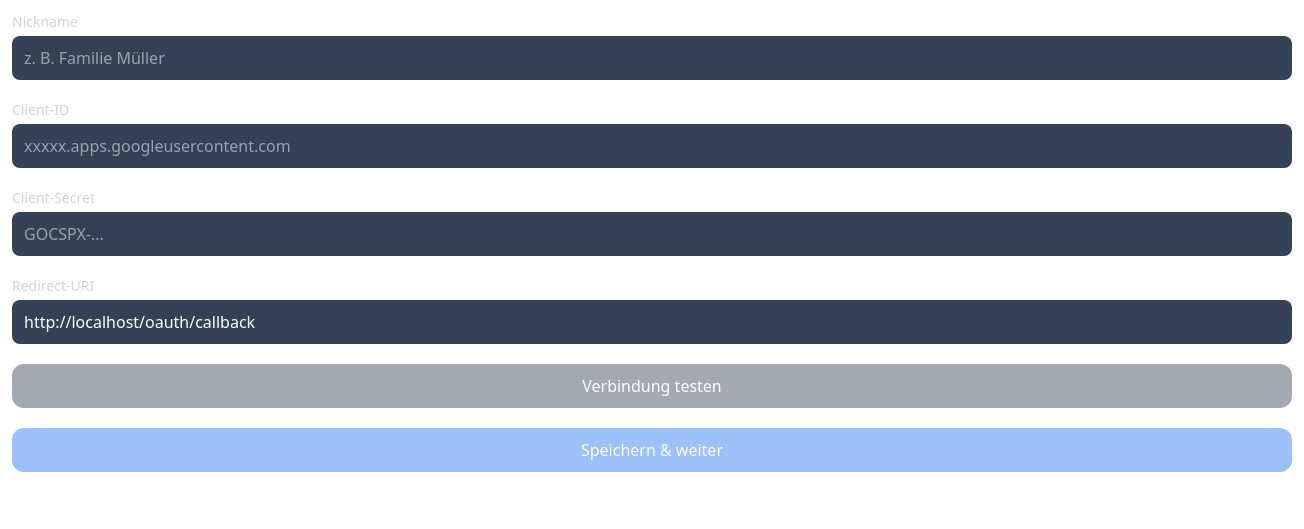
Test: CredentialsStep › "Verbindung testen" shows red error message when isValid=false
Type "Familie" into the field labelled "Nickname". click: coordinates (652, 58)
box: [12,36,1292,80]
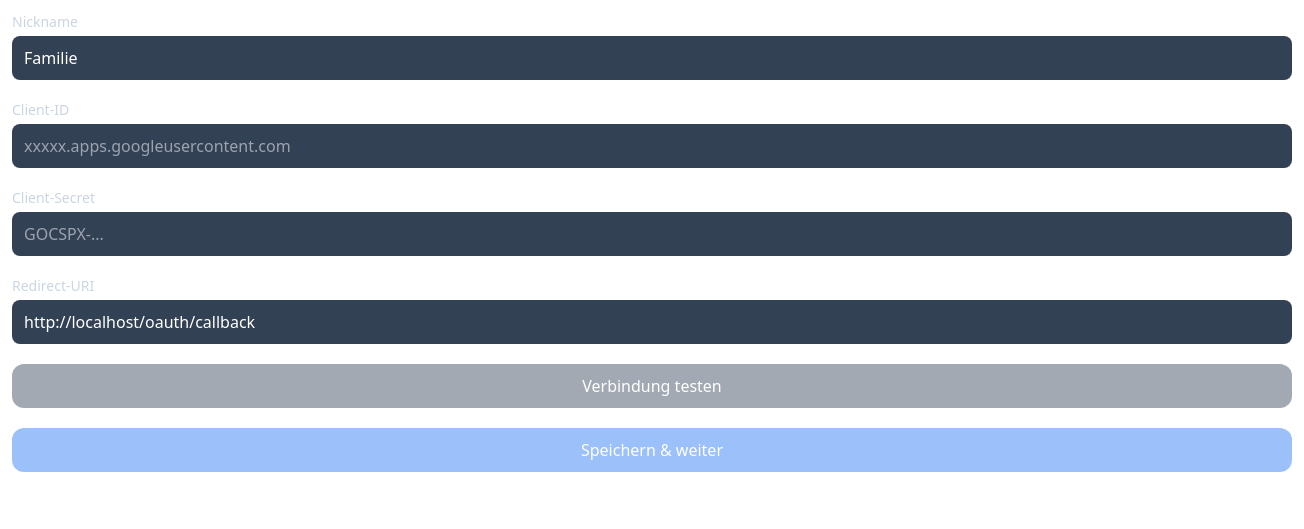
Type "client-id-123" into the field labelled "Client-ID". click: coordinates (652, 146)
box: [12,124,1292,168]
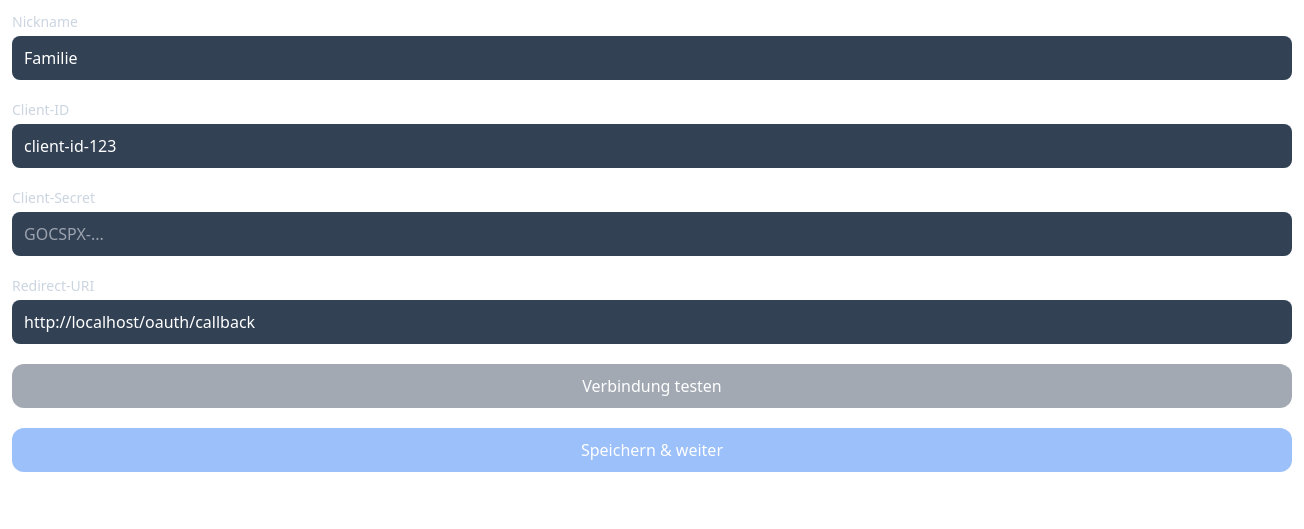
Type "secret-abc" into the field labelled "Client-Secret". click: coordinates (652, 234)
box: [12,212,1292,256]
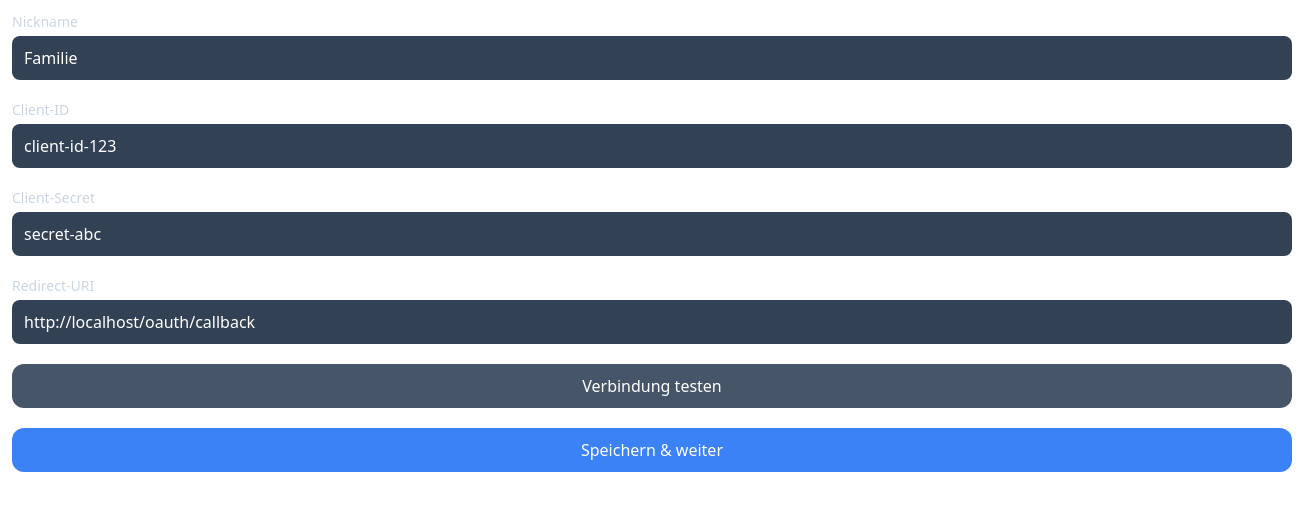
Click the button "Verbindung testen". click: coordinates (652, 386)
box: [12,364,1292,408]
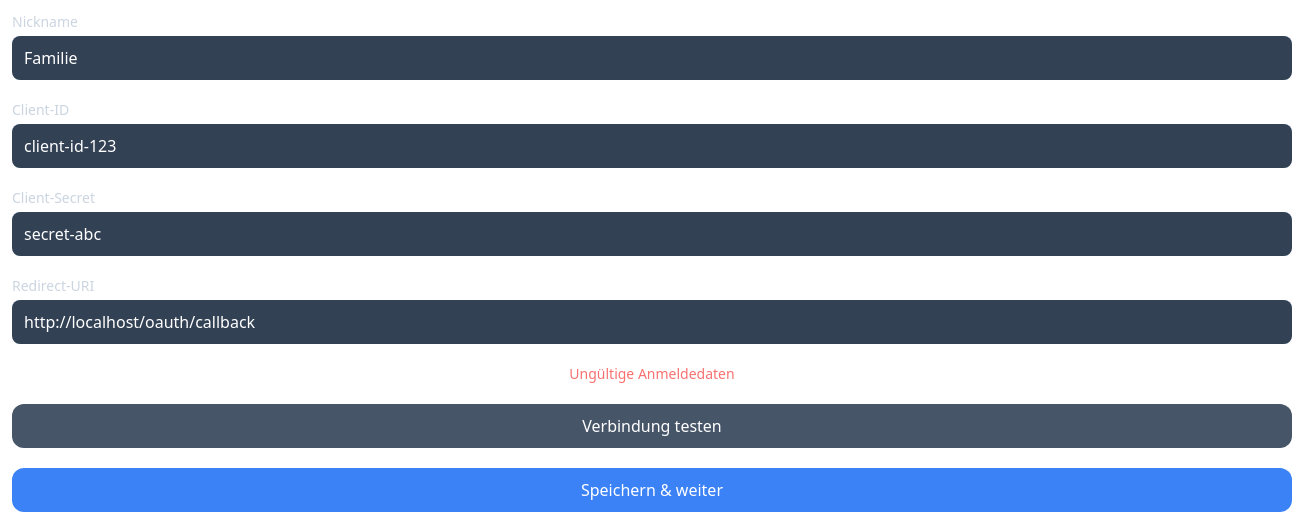
Expected: the text "Ungültige Anmeldedaten" is shown, [569,364,735,383]
